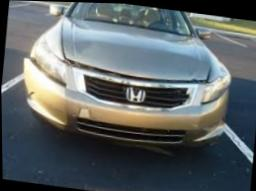Bonnet: (58, 16, 215, 82)
Bumper: (177, 110, 221, 136), (70, 100, 98, 122)
